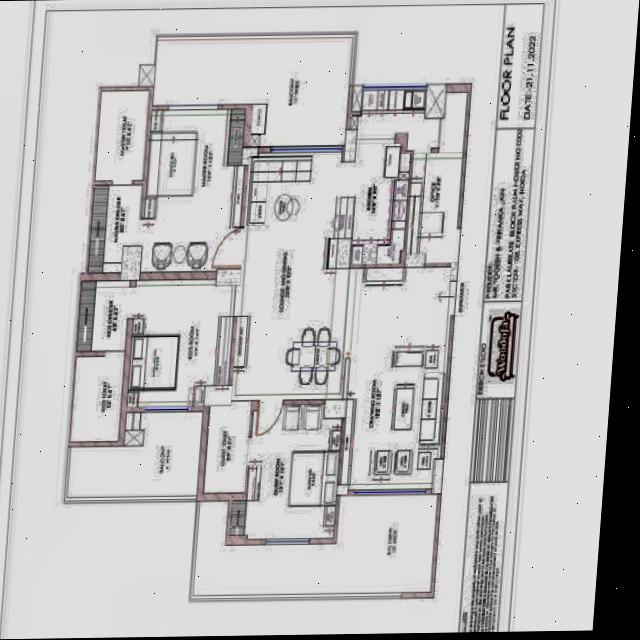room: (233, 147, 358, 402), (334, 260, 453, 491), (190, 493, 439, 594), (153, 36, 353, 146), (140, 102, 249, 279), (230, 399, 342, 545), (128, 273, 232, 413), (64, 411, 205, 497), (401, 89, 468, 265), (89, 85, 149, 276), (349, 110, 413, 268), (71, 349, 124, 444), (202, 396, 252, 496), (77, 279, 129, 352)
